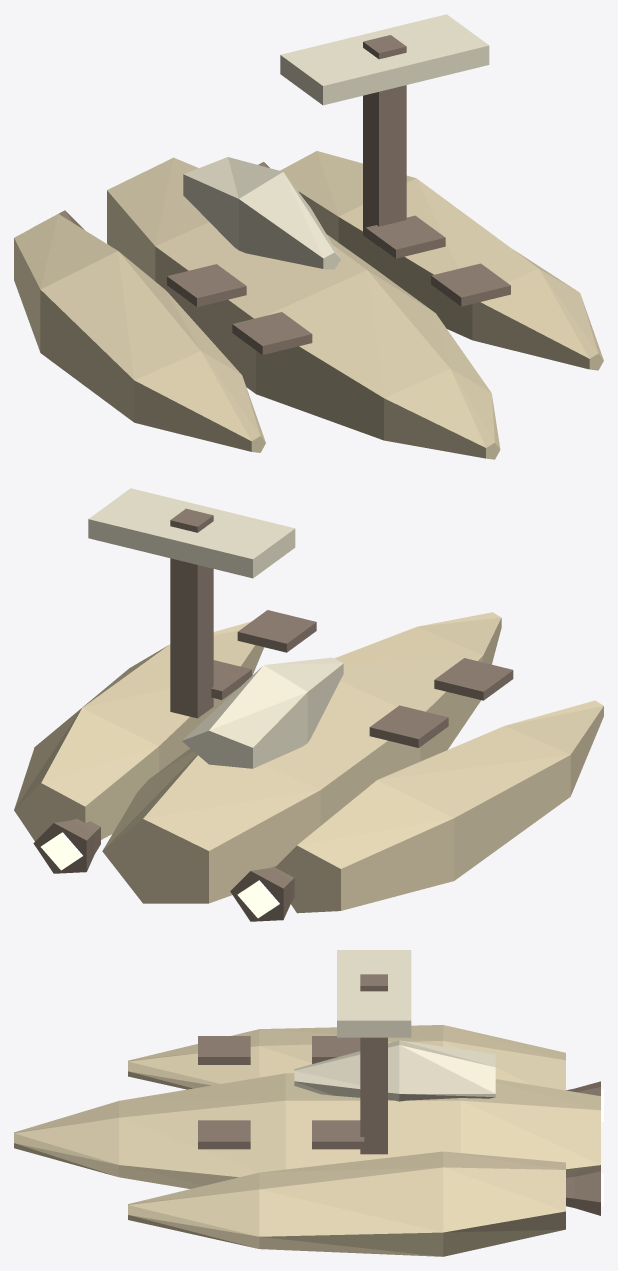
The picture shows the model from 3 angles, top to bottom: view 1: azimuth 30°, elevation 25°; view 2: azimuth 150°, elevation 25°; view 3: azimuth 270°, elevation 25°; orthographic projection. The views are drawn at different scales.
Bounding box in the file's own units: 9.64 × 6.03 × 12.7.
